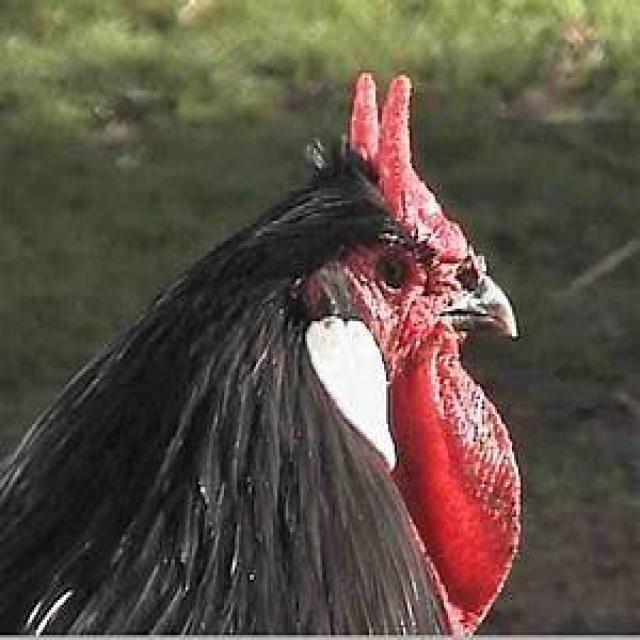animal: (0, 65, 575, 640)
